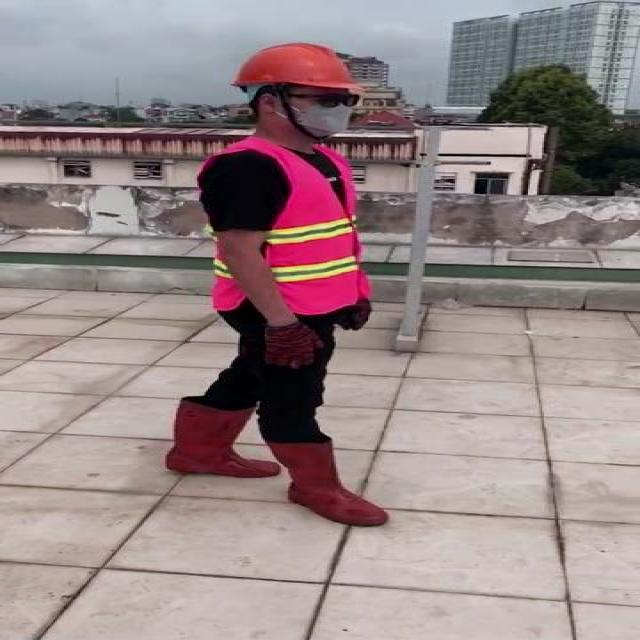boots: (268, 441, 388, 526), (165, 400, 267, 477)
face_mask: (285, 87, 362, 139)
glasses: (302, 90, 364, 112)
hand_glove: (260, 320, 322, 369), (339, 298, 372, 334)
head_helmet: (230, 40, 366, 91)
person: (161, 43, 403, 531)
vest: (208, 142, 364, 312)
